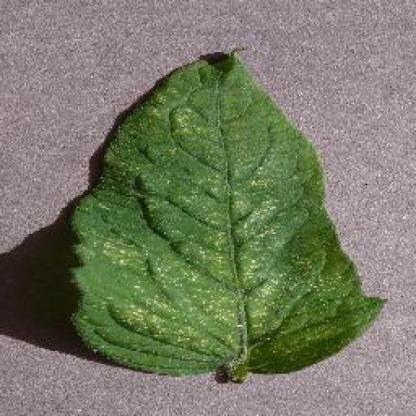Tomato_Spider_Mites: (73, 61, 386, 370)
